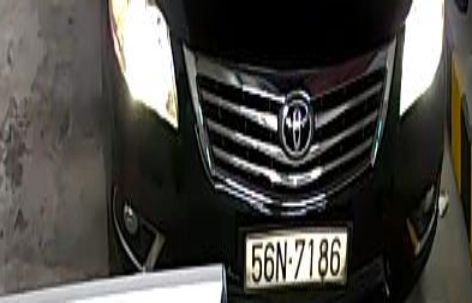plate: (241, 221, 357, 287)
